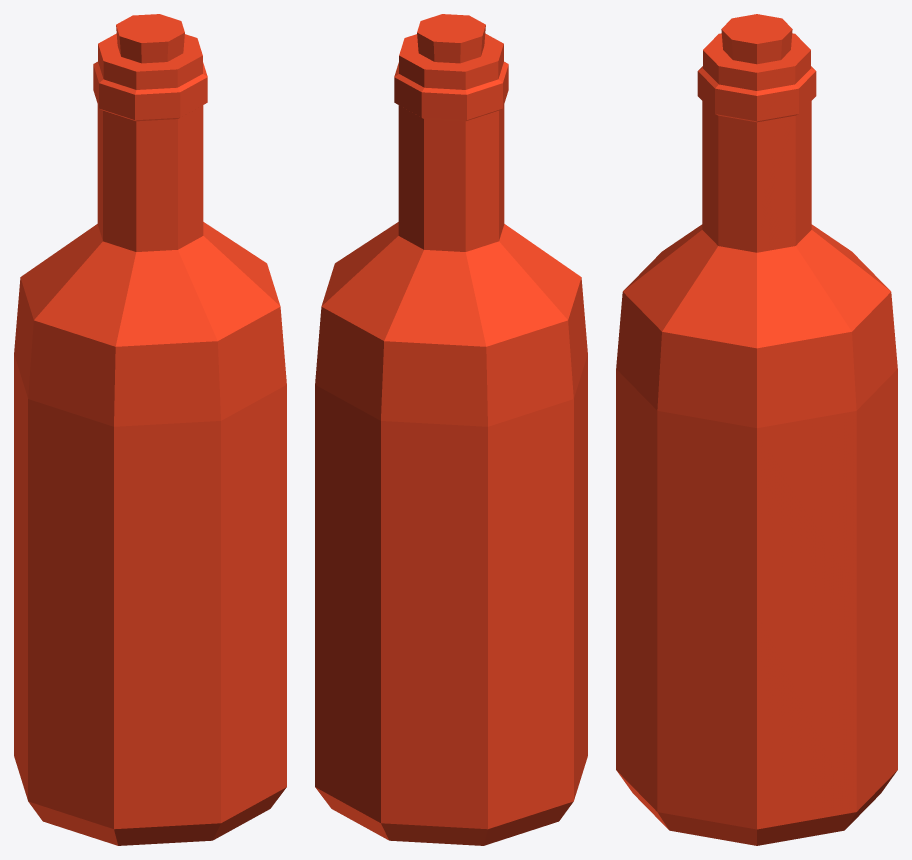
The model's file is SM_Alcohol_City.fbx.
3 renders of one model, left to right at view 1: azimuth 30°, elevation 25°; view 2: azimuth 150°, elevation 25°; view 3: azimuth 270°, elevation 25°, orthographic.
Parts seen in each view (by area): view 1: SM_Alcohol_City; view 2: SM_Alcohol_City; view 3: SM_Alcohol_City.
Boxes of the visible parts, <box> form: SM_Alcohol_City: <box>14,14,286,845</box>; SM_Alcohol_City: <box>315,14,587,845</box>; SM_Alcohol_City: <box>616,14,897,845</box>.
Bounding box in the file's own units: 0.1013 × 0.3033 × 0.1013.
